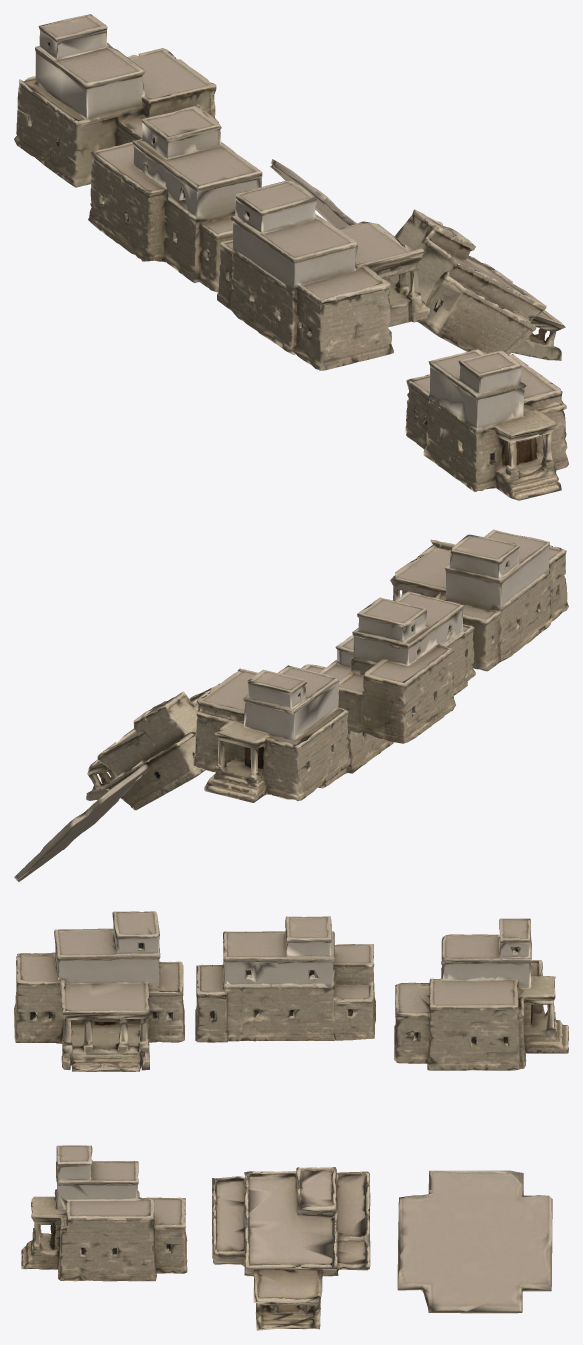
File: david_palace_game.glb
3 renders of one model, top to bottom at view 1: azimuth 30°, elevation 25°; view 2: azimuth 150°, elevation 25°; view 3: azimuth 270°, elevation 25°, orthographic. The views are drawn at different scales.
Visible parts, largest first — view 1: tripo_node_a37e3e73-0224-402b-a001-24dabcfbb7d0; view 2: tripo_node_a37e3e73-0224-402b-a001-24dabcfbb7d0; view 3: tripo_node_a37e3e73-0224-402b-a001-24dabcfbb7d0.
Boxes of the visible parts, box(x1,y1,x2,y2) form: tripo_node_a37e3e73-0224-402b-a001-24dabcfbb7d0: box(14, 14, 568, 500); tripo_node_a37e3e73-0224-402b-a001-24dabcfbb7d0: box(14, 529, 568, 882); tripo_node_a37e3e73-0224-402b-a001-24dabcfbb7d0: box(14, 911, 568, 1330).
Bounding box in the file's own units: 0.7111 × 0.5098 × 0.9809.
1 material, 1 textured.
